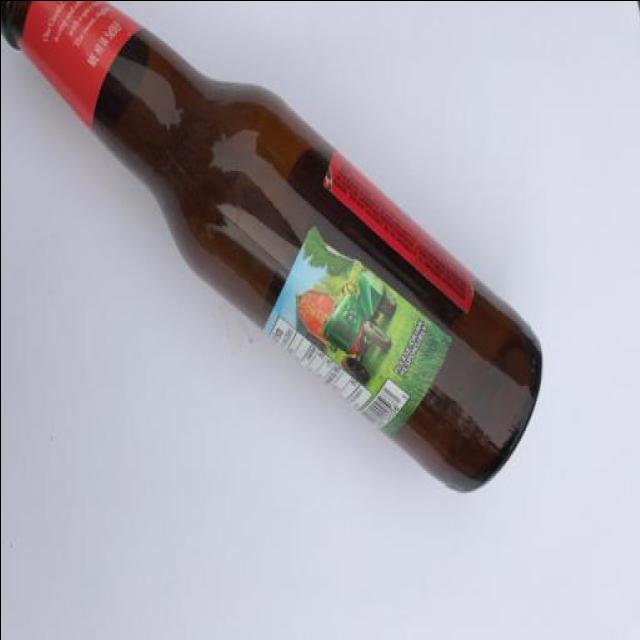glass: (0, 0, 548, 497)
